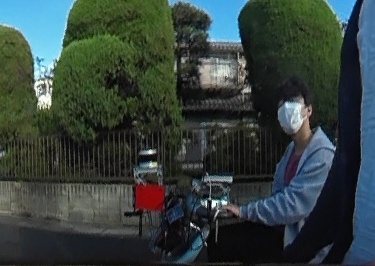person: (267, 82, 334, 266)
